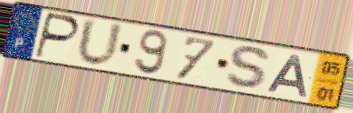7: (175, 34, 217, 82)
9: (133, 28, 171, 77)
A: (265, 54, 310, 100)
P: (32, 11, 82, 61)
S: (223, 44, 274, 92)
U: (75, 16, 126, 70)
